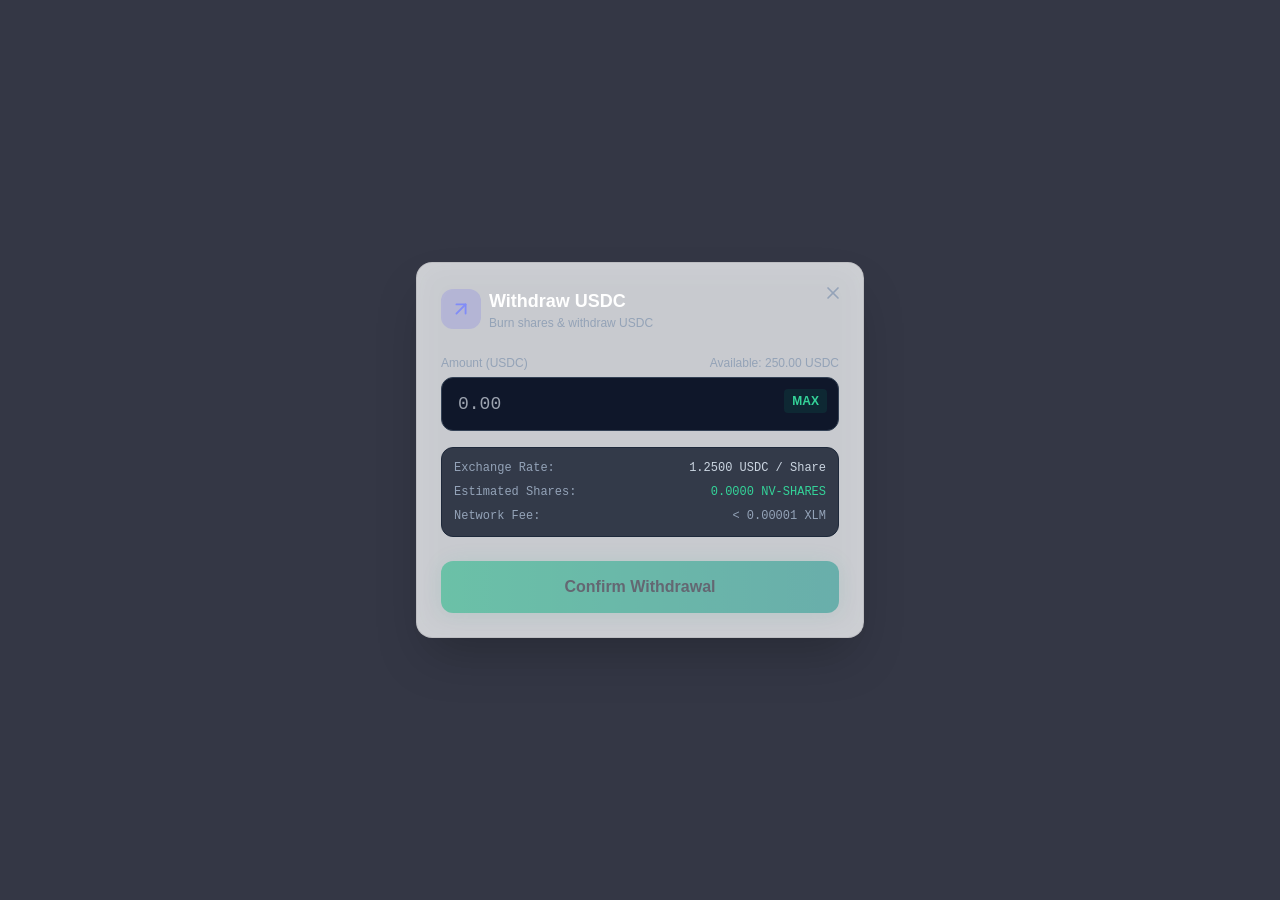
ActionModal › fills max amount for withdrawals
Click the button "MAX" at (806, 401), box [784, 389, 827, 413]
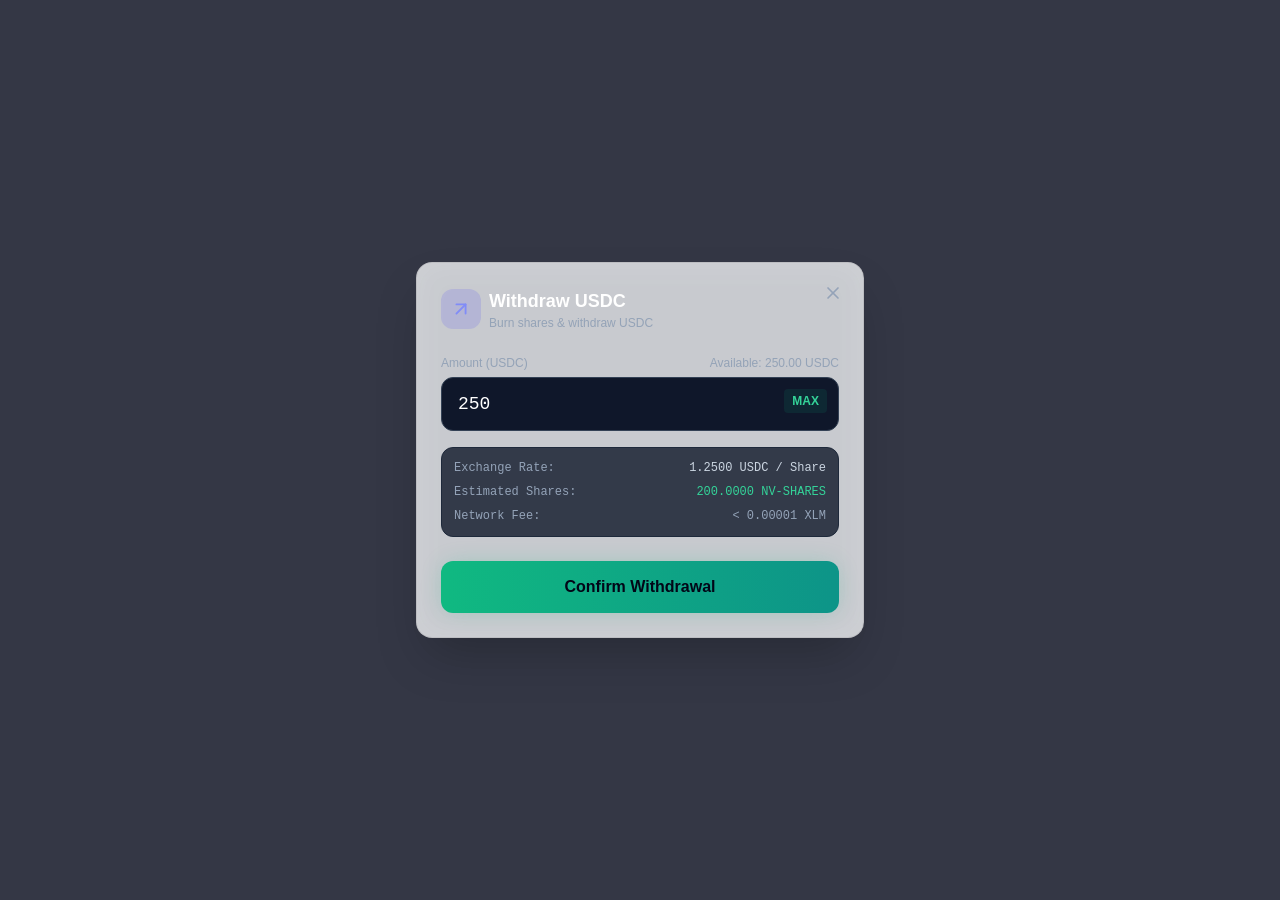
expect the number field with placeholder "0.00" holds "250": met, box [441, 377, 839, 431]
expect the text "200.0000 NV-SHARES" is shown: met, box [696, 484, 826, 500]
